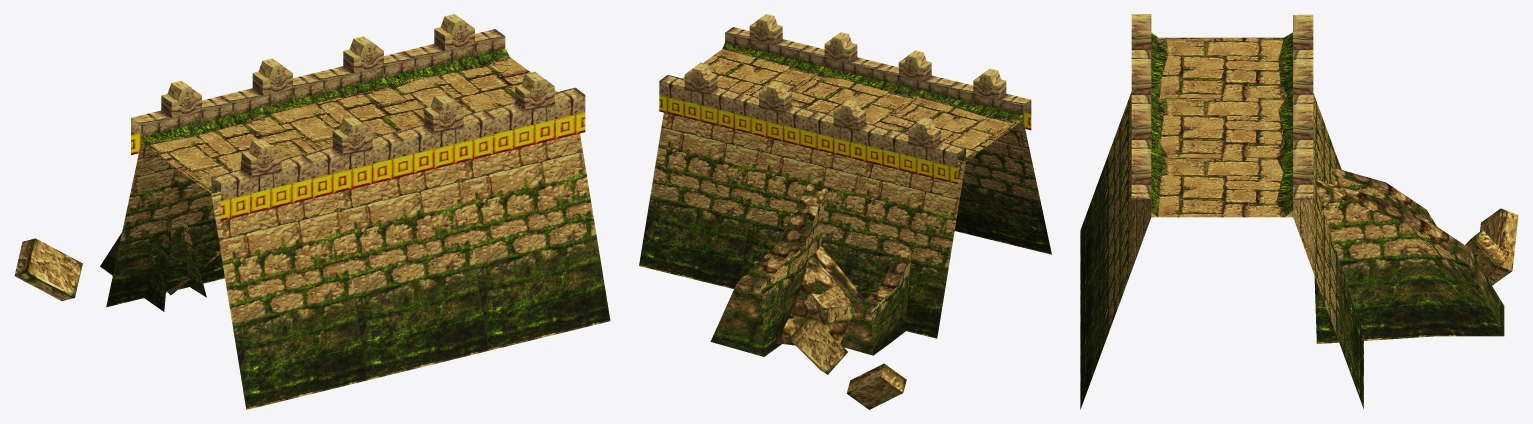
File: straight_2.fbx
The picture shows the model from 3 angles, left to right: view 1: azimuth 30°, elevation 25°; view 2: azimuth 150°, elevation 25°; view 3: azimuth 270°, elevation 25°; orthographic projection. The views are drawn at different scales.
Parts seen in each view (by area): view 1: templeStraightHorz2_prefab; view 2: templeStraightHorz2_prefab; view 3: templeStraightHorz2_prefab.
Boxes of the visible parts, x1,y1,x2,y2 form: templeStraightHorz2_prefab: [14, 14, 610, 409]; templeStraightHorz2_prefab: [639, 14, 1051, 409]; templeStraightHorz2_prefab: [1080, 14, 1518, 409].
Size of the model in its own units: 6413 by 4388 by 6180.
